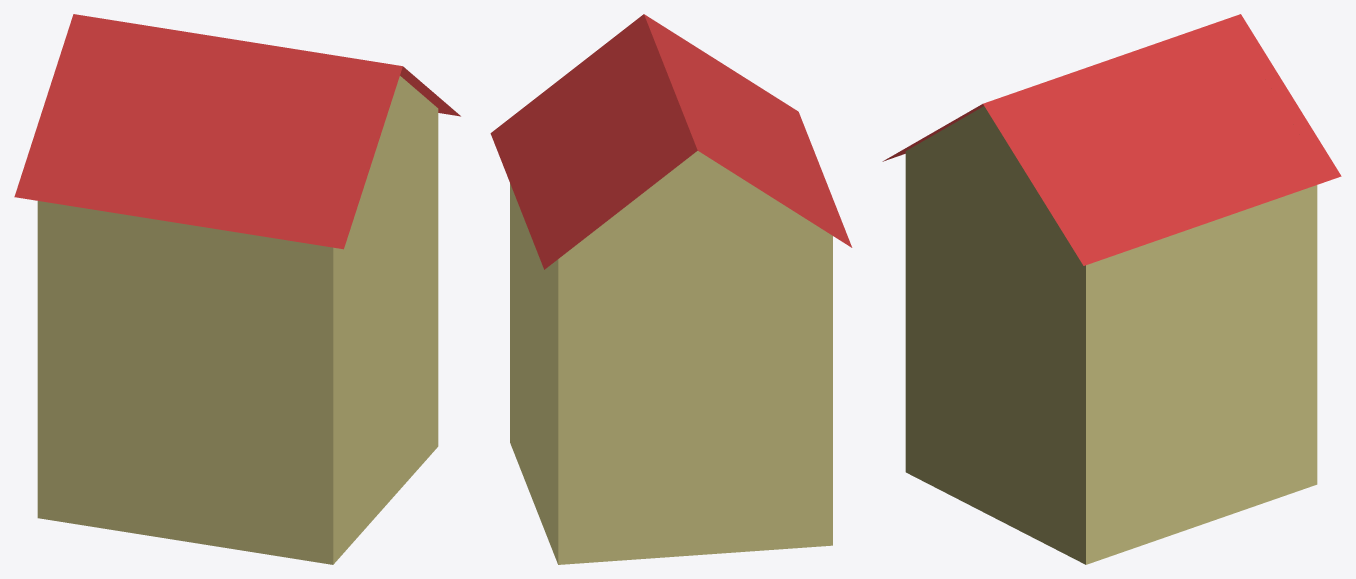
The picture shows the model from 3 angles, left to right: view 1: azimuth 30°, elevation 25°; view 2: azimuth 150°, elevation 25°; view 3: azimuth 270°, elevation 25°; orthographic projection. The views are drawn at different scales.
Size of the model in its own units: 13.28 by 13.35 by 13.43.
